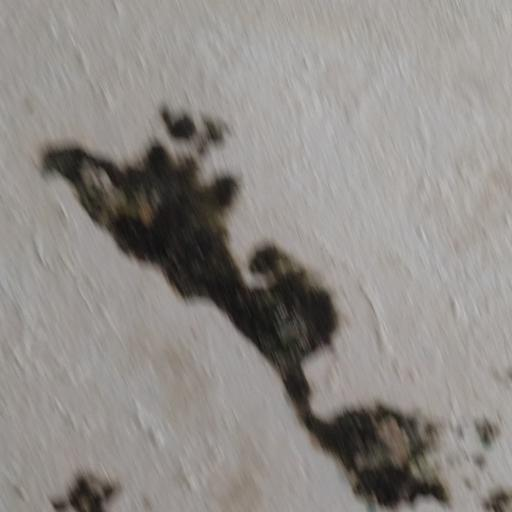algae: (40, 97, 512, 512)
